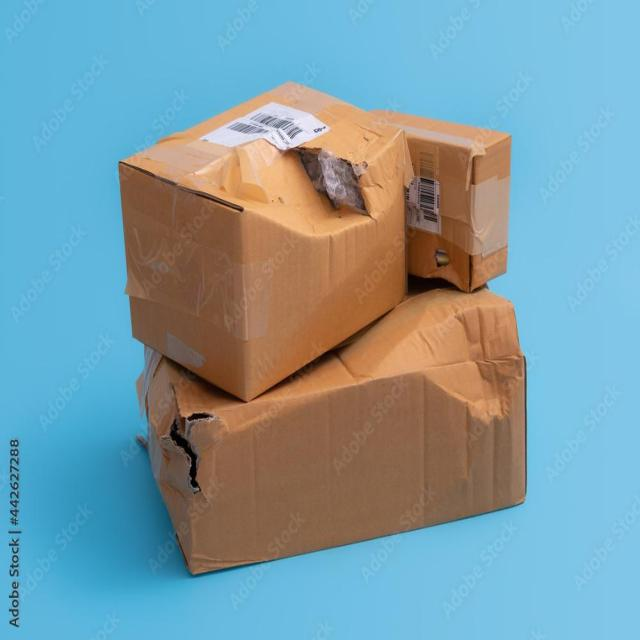Garbage: (127, 286, 546, 582), (112, 68, 423, 407)
Pathole: (341, 99, 516, 300)
